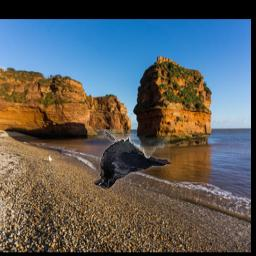Crow: (94, 130, 171, 189)
